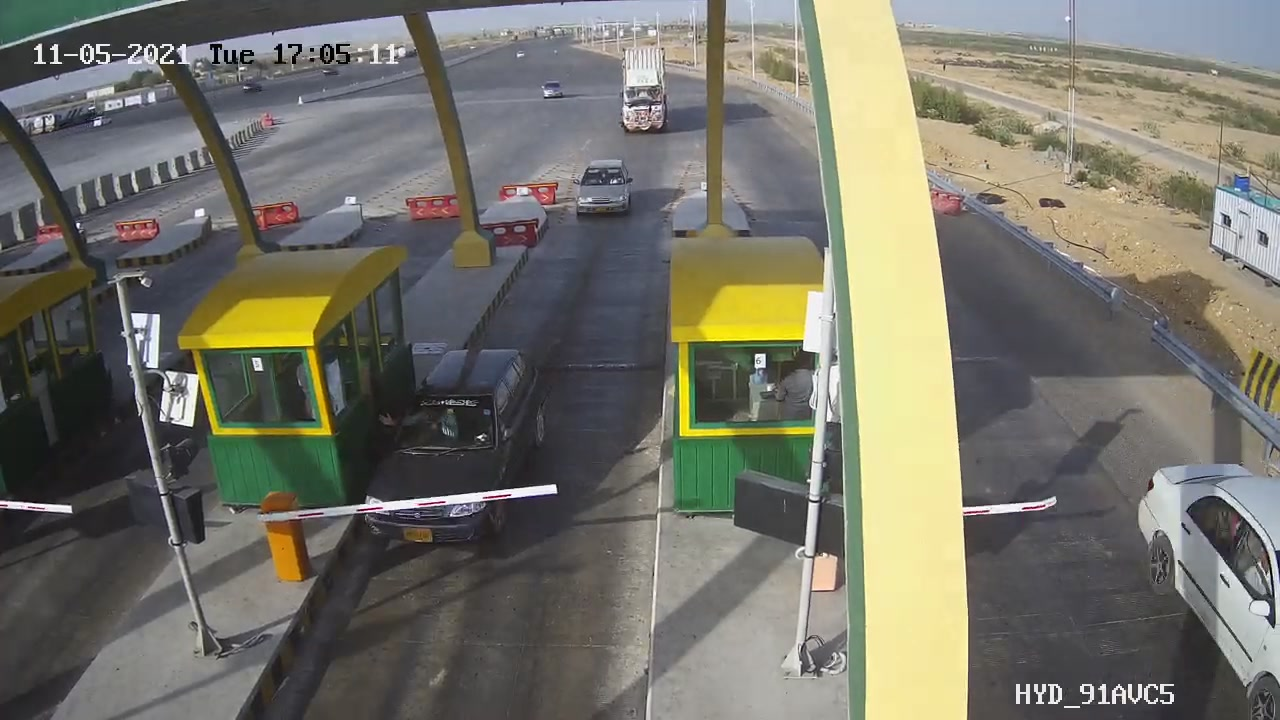F1: (350, 333, 569, 553)
